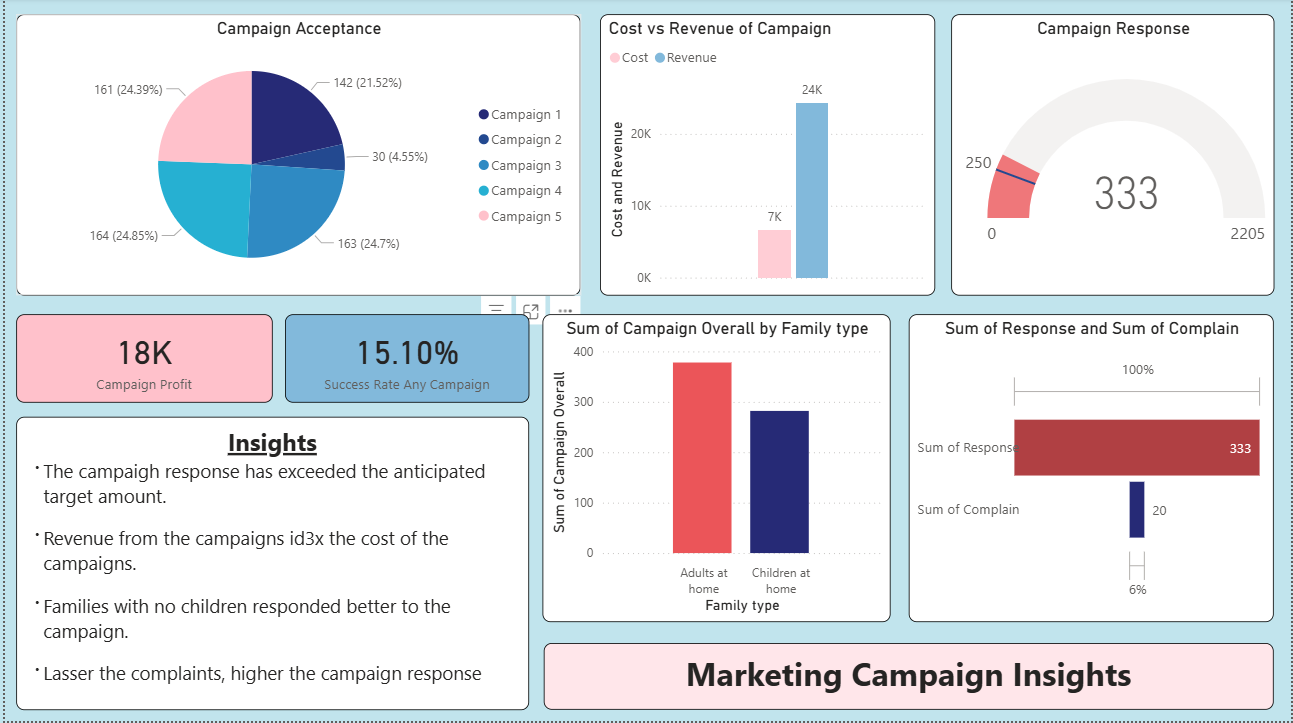

This screenshot's page, from the dashboard's own definition file:
{"tool":"powerbi","page":{"name":"Page 2","canvas":[1280,720],"ordinal":1},"visuals":[{"type":"clusteredColumnChart","title":"Cost vs Revenue of Campaign","fields":{"Y":["Sum(ifood_df.Cost)","Sum(ifood_df.Revenue)"]},"box":[591.7,16.7,333.3,280],"z":0},{"type":"pieChart","title":"Campaign Acceptance","fields":{"Y":["Sum(ifood_df.Campaign 1)","Sum(ifood_df.Campaign 2)","Sum(ifood_df.Campaign 3)","Sum(ifood_df.Campaign 4)","Sum(ifood_df.Campaign 5)"]},"box":[11.7,16.7,561.7,280],"z":1000},{"type":"gauge","title":"Campaign Response","fields":{"Y":["Sum(ifood_df.Response)"],"MaxValue":["ifood_df.Count rows"]},"box":[941.7,16.7,321.7,280],"z":2000},{"type":"textbox","box":[536.7,641.7,726.7,66.7],"z":3000},{"type":"columnChart","fields":{"Category":["ifood_df.Family type"],"Y":["Sum(ifood_df.Campaign Overall)"]},"box":[535,315,346.7,306.7],"z":4000},{"type":"textbox","box":[11.7,416.7,510,291.7],"z":5000},{"type":"card","fields":{"Values":["ifood_df.Profit"]},"box":[11.7,315,255,88.3],"z":6000},{"type":"funnel","fields":{"Y":["Sum(ifood_df.Response)","Sum(ifood_df.Complain)"]},"box":[900,315,363.3,306.7],"z":7000},{"type":"card","fields":{"Values":["ifood_df.Success Rate Any Campaign"]},"box":[278.3,315,243.3,88.3],"z":8000}]}

Visuals, with their boxes in screenshot pixels (x1, y1, x2, y2), scaled from the page's 1280x720 canvas onto the 1293x723 screenshot:
"Cost vs Revenue of Campaign" clusteredColumnChart: 598,17,934,298
"Campaign Acceptance" pieChart: 12,17,579,298
"Campaign Response" gauge: 951,17,1276,298
textbox: 542,644,1276,711
columnChart - ifood_df.Family type x Sum(ifood_df.Campaign Overall): 540,316,891,624
textbox: 12,418,527,711
card - ifood_df.Profit: 12,316,269,405
funnel - Sum(ifood_df.Response) x Sum(ifood_df.Complain): 909,316,1276,624
card - ifood_df.Success Rate Any Campaign: 281,316,527,405
